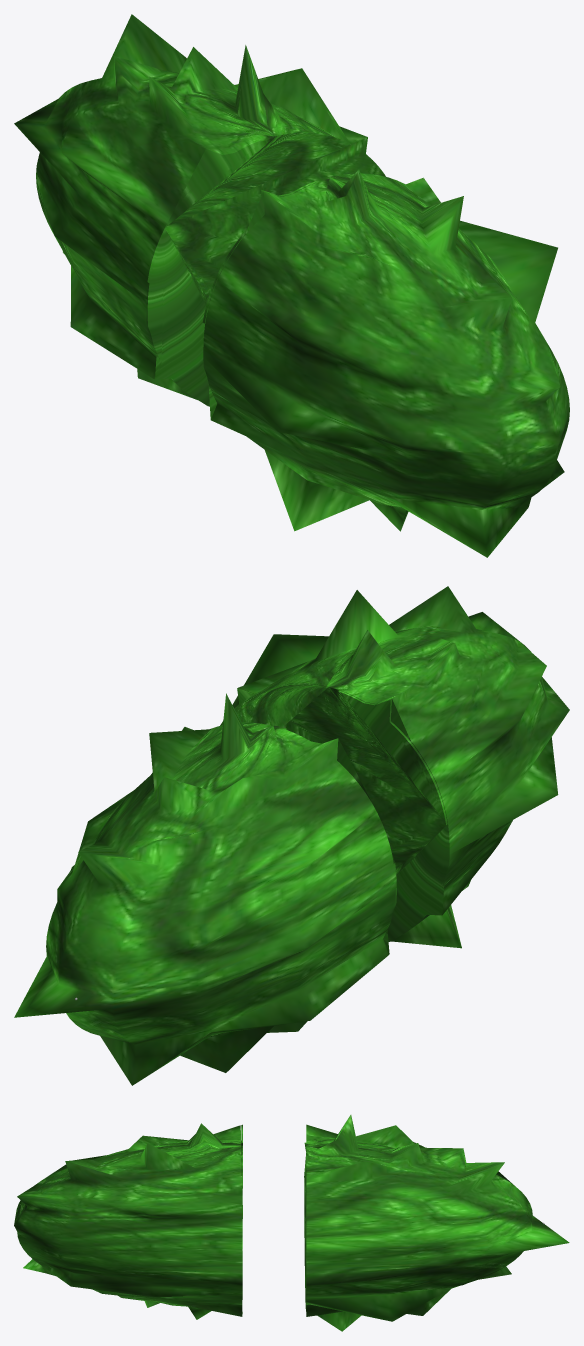
Rendered from Bacteria_Sliced_Maya.fbx.
The picture shows the model from 3 angles, top to bottom: view 1: azimuth 30°, elevation 25°; view 2: azimuth 150°, elevation 25°; view 3: azimuth 270°, elevation 25°; orthographic projection. The views are drawn at different scales.
Visible parts, largest first — view 1: polySurface2, polySurface1; view 2: polySurface1, polySurface2; view 3: polySurface1, polySurface2.
Boxes of the visible parts, bbox=[...] form: polySurface2: bbox=[202, 169, 569, 557]; polySurface1: bbox=[14, 14, 385, 406]; polySurface1: bbox=[14, 693, 396, 1085]; polySurface2: bbox=[220, 586, 569, 948]; polySurface1: bbox=[304, 1115, 569, 1331]; polySurface2: bbox=[14, 1123, 242, 1319].
Size of the model in its own units: 229 by 266 by 648.
2 materials, 1 textured.
